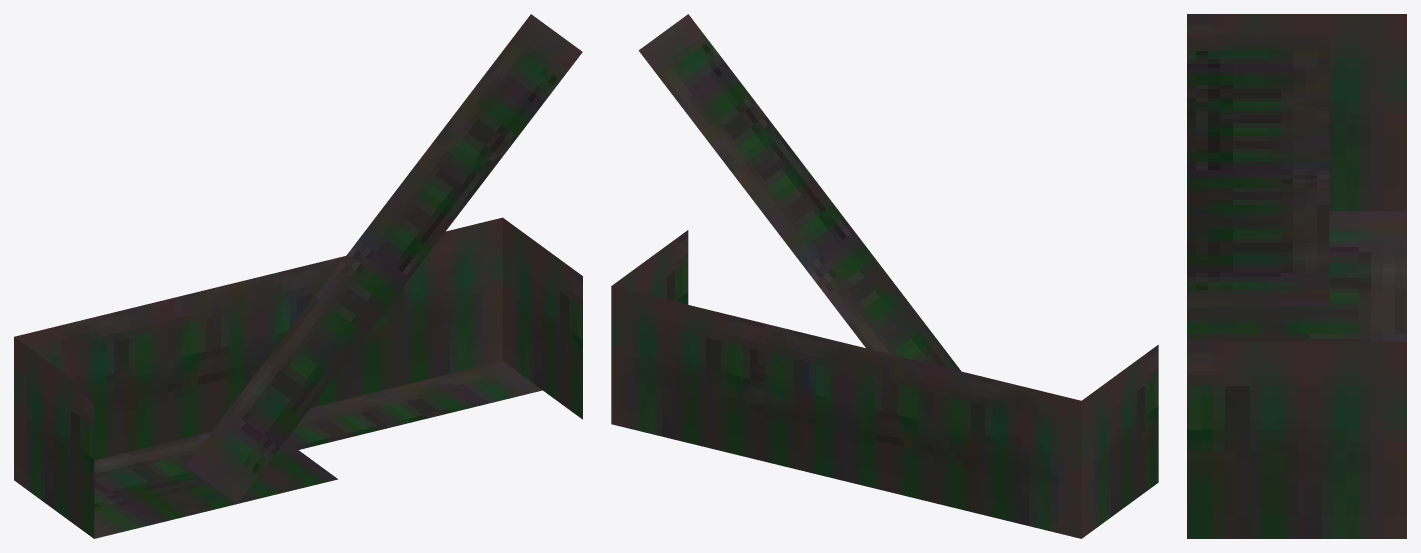
The model's file is kenney-retro-urban-balcony-ladder-bottom.glb.
The picture shows the model from 3 angles, left to right: view 1: azimuth 30°, elevation 25°; view 2: azimuth 150°, elevation 25°; view 3: azimuth 270°, elevation 25°; orthographic projection. The views are drawn at different scales.
Parts seen in each view (by area): view 1: balcony-ladder-bottom; view 2: balcony-ladder-bottom; view 3: balcony-ladder-bottom.
Part boxes in pixels (x1=…): balcony-ladder-bottom: x1=14, y1=14, x2=582, y2=538; balcony-ladder-bottom: x1=611, y1=14, x2=1158, y2=538; balcony-ladder-bottom: x1=1187, y1=14, x2=1406, y2=538.
Size of the model in its own units: 1 by 0.7192 by 0.2837.
Materials: 1 (1 with a texture image).
